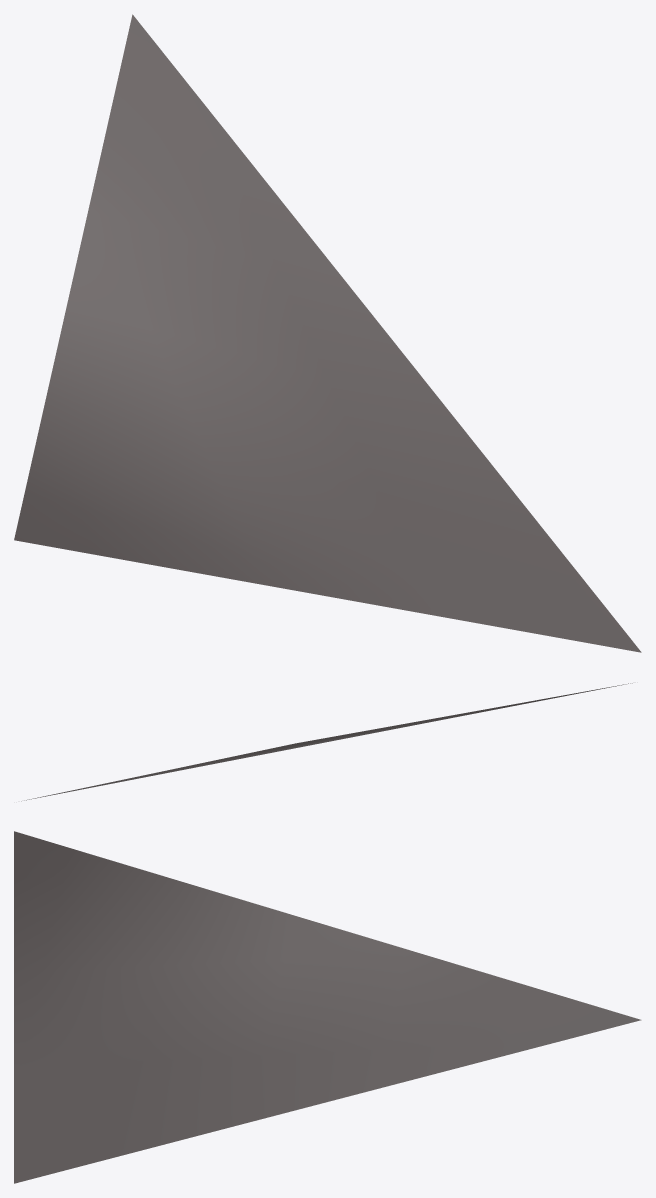
3 views of the same model, one above another, from view 1: azimuth 30°, elevation 25°; view 2: azimuth 150°, elevation 25°; view 3: azimuth 270°, elevation 25° (orthographic). The views are drawn at different scales.
Bounding box in the file's own units: 0.0112 × 0.00455 × 0.0158.
Materials: 1 (1 with a texture image).
